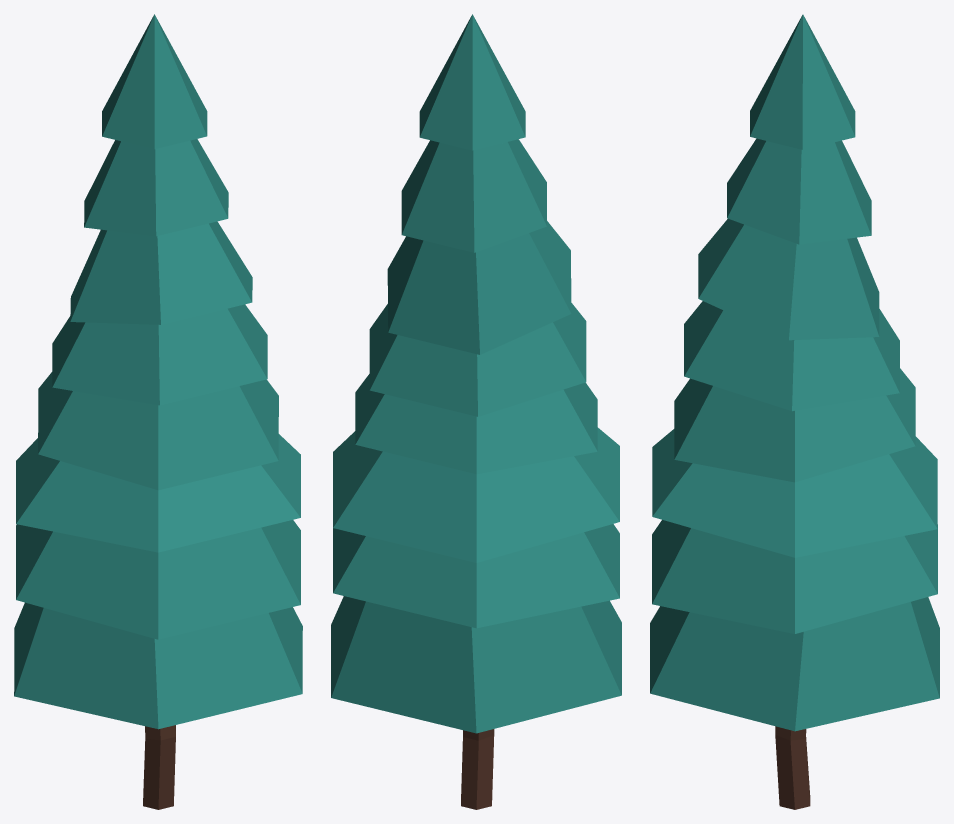
File: Tree_Type7_5.fbx
3 renders of one model, left to right at view 1: azimuth 30°, elevation 25°; view 2: azimuth 150°, elevation 25°; view 3: azimuth 270°, elevation 25°, orthographic.
Visible parts, largest first — view 1: Tree_Type7_5; view 2: Tree_Type7_5; view 3: Tree_Type7_5.
Part boxes in pixels (x1,y1,x2,y2): Tree_Type7_5: (14,14,302,809); Tree_Type7_5: (331,14,621,809); Tree_Type7_5: (650,14,939,809).
Size of the model in its own units: 282 by 733 by 244.
